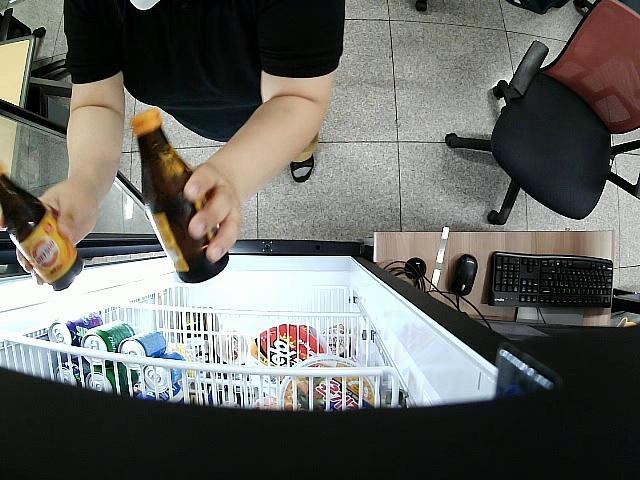17_vita500: (128, 107, 228, 286), (0, 164, 83, 288)
